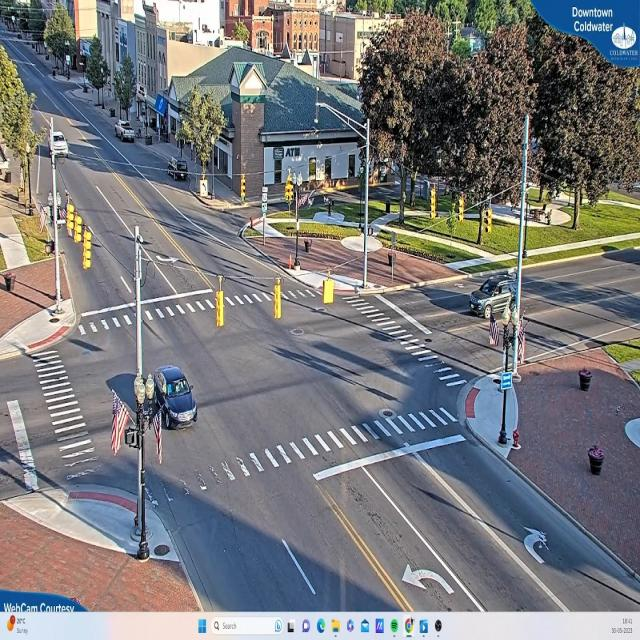car: (152, 364, 197, 428), (471, 274, 517, 318), (117, 122, 137, 144)
